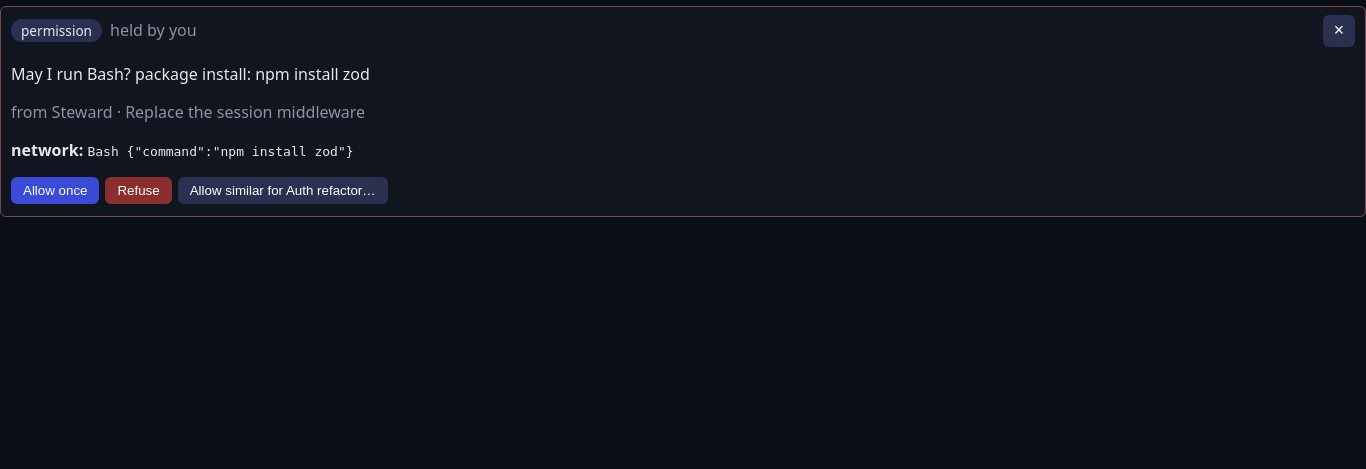
Test: the permission card’s "Allow similar" (P9-17) › Escape and Cancel close the chooser without answering
Click the button "Allow similar for Auth refactor…".
click(283, 190)  # box [178,177,388,204]
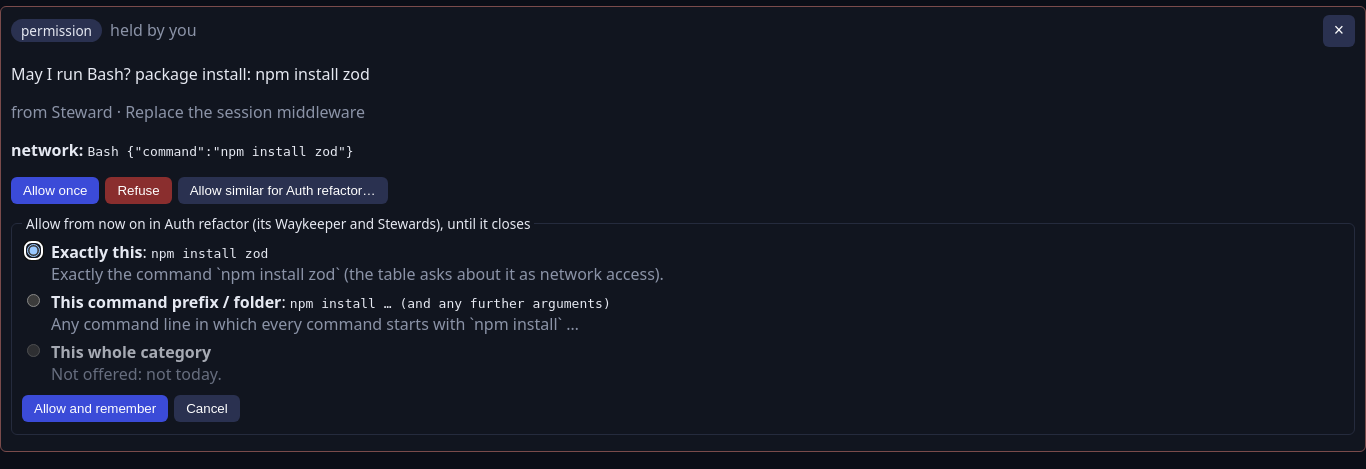
Press Escape in the element "Allow from now on", box [11,214,1355,435]
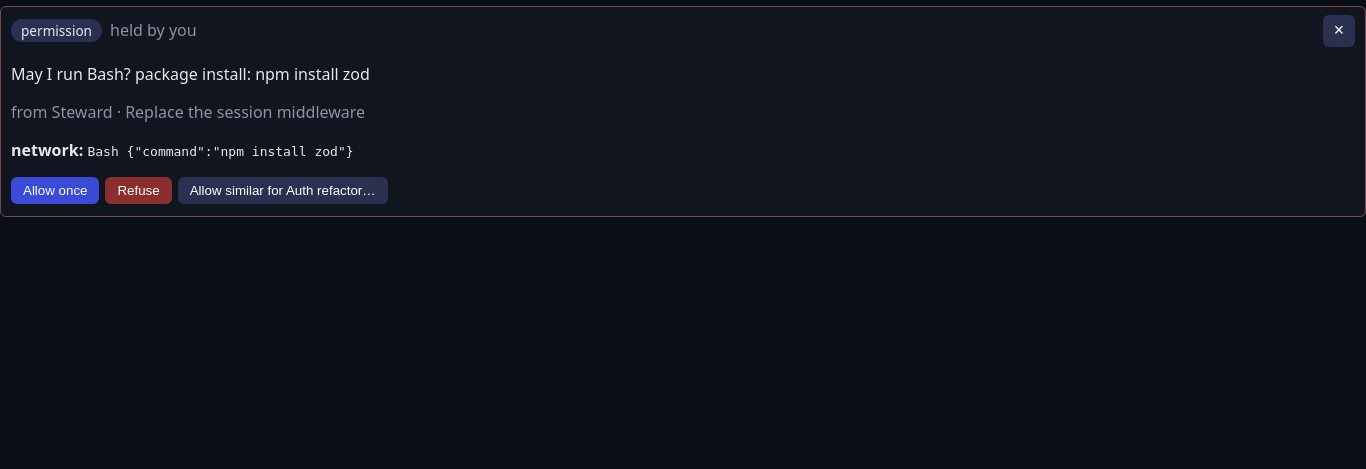
Expected: the text "Allow from now on" is gone
Click the button "Allow similar for Auth refactor…".
click(283, 190)  # box [178,177,388,204]
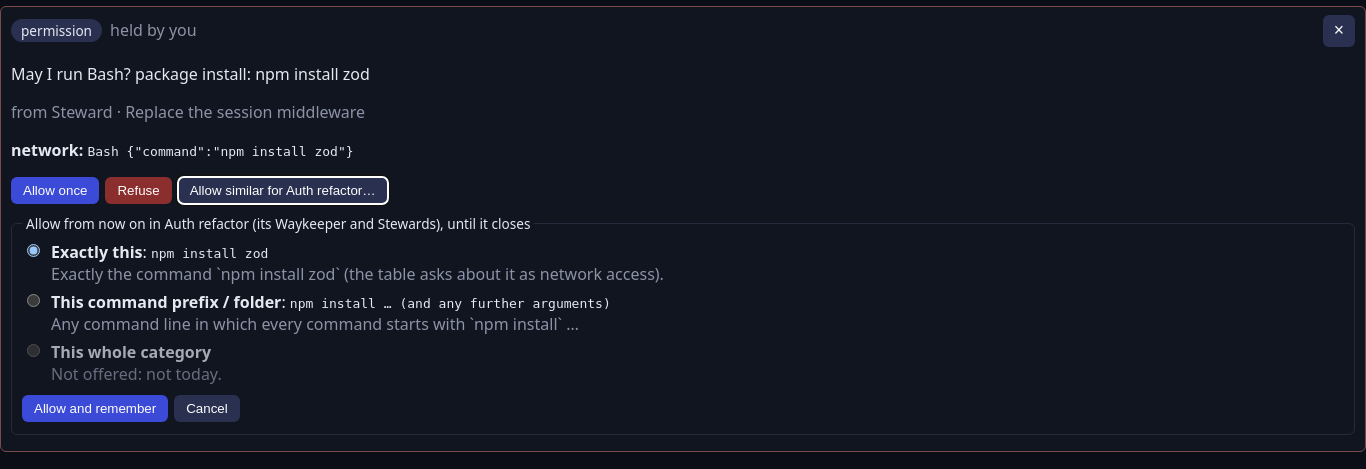
Click the button "Cancel".
click(207, 408)  # box [174,395,240,422]
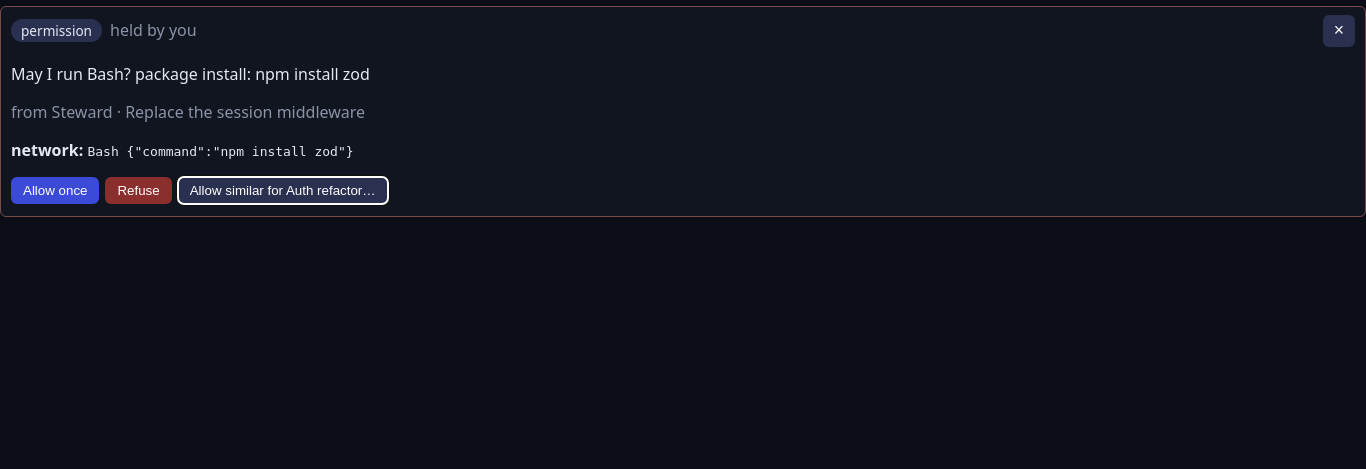
Expected: the text "Allow from now on" is gone
